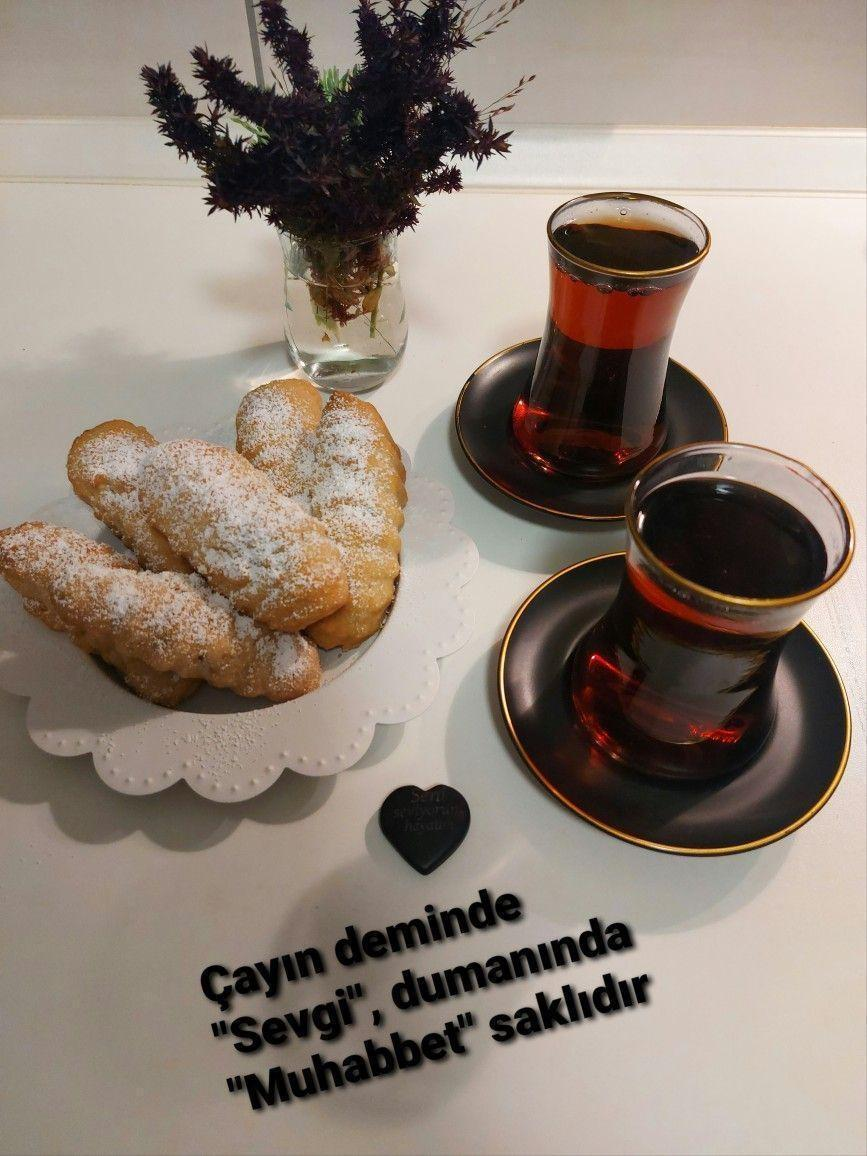glass-normal: (567, 438, 858, 768), (516, 189, 713, 470)
